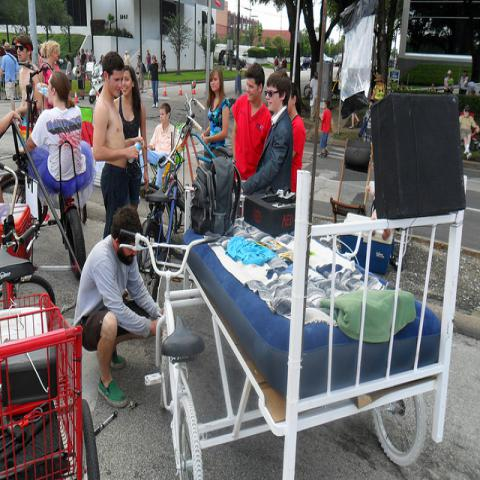car: (219, 50, 247, 67), (323, 52, 334, 64), (305, 57, 311, 68)
